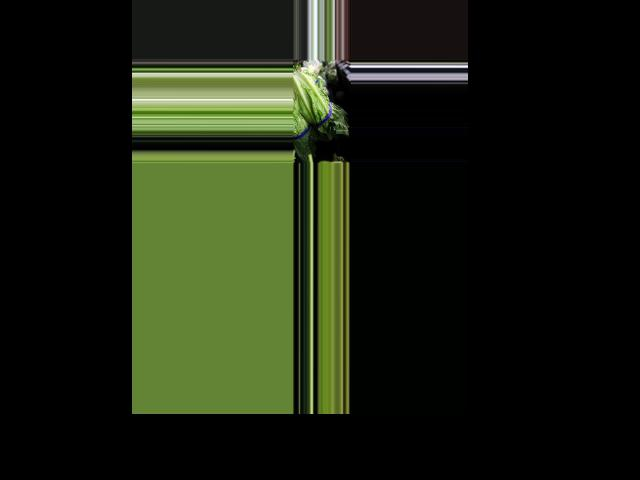lettuce: (292, 75, 344, 139)
